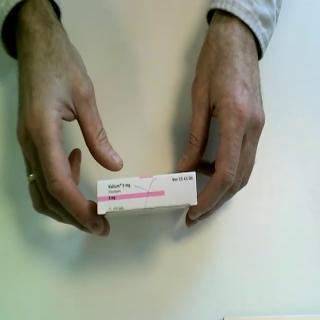valium5mg: (96, 171, 200, 219)
